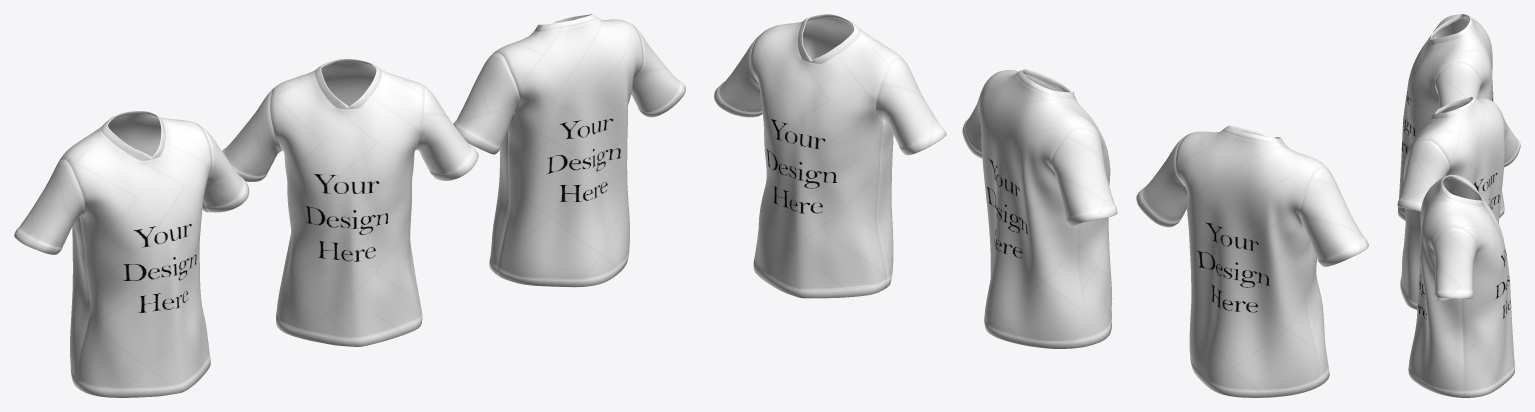
Rendered from T-shirt A-5.glb.
3 renders of one model, left to right at view 1: azimuth 30°, elevation 25°; view 2: azimuth 150°, elevation 25°; view 3: azimuth 270°, elevation 25°, orthographic. The views are drawn at different scales.
Parts seen in each view (by area): view 1: T-shirt procedural texture, T-shirt procedural texture.002, T-shirt procedural texture.001; view 2: T-shirt procedural texture.001, T-shirt procedural texture.002, T-shirt procedural texture; view 3: T-shirt procedural texture.001, T-shirt procedural texture, T-shirt procedural texture.002.
Part boxes in pixels (left/top/right/bottom): T-shirt procedural texture: left=222, top=58, right=478, bottom=346; T-shirt procedural texture.002: left=14, top=110, right=249, bottom=397; T-shirt procedural texture.001: left=453, top=14, right=685, bottom=287; T-shirt procedural texture.001: left=714, top=14, right=946, bottom=298; T-shirt procedural texture.002: left=1136, top=125, right=1368, bottom=397; T-shirt procedural texture: left=962, top=69, right=1117, bottom=348; T-shirt procedural texture.001: left=1408, top=175, right=1515, bottom=397; T-shirt procedural texture: left=1397, top=97, right=1520, bottom=309; T-shirt procedural texture.002: left=1398, top=14, right=1504, bottom=220.
Bounding box in the file's own units: 1.97 × 0.7167 × 0.4143.
Materials: 1 (1 with a texture image).
